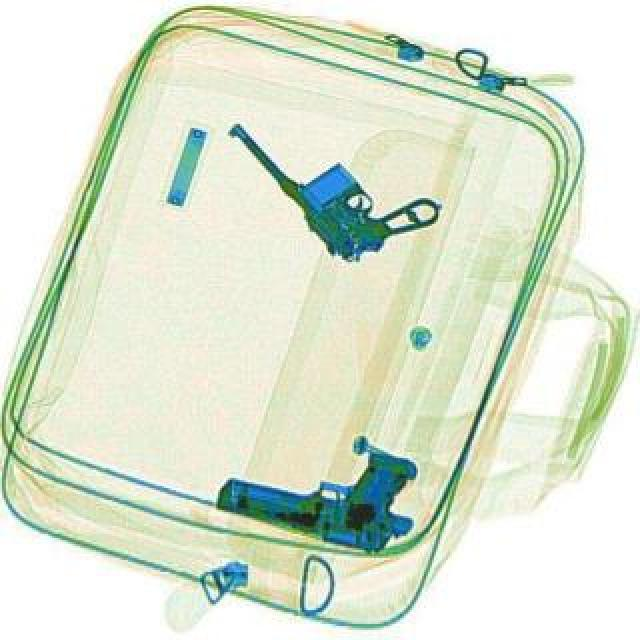gun: (226, 68, 450, 284), (216, 416, 436, 564)
